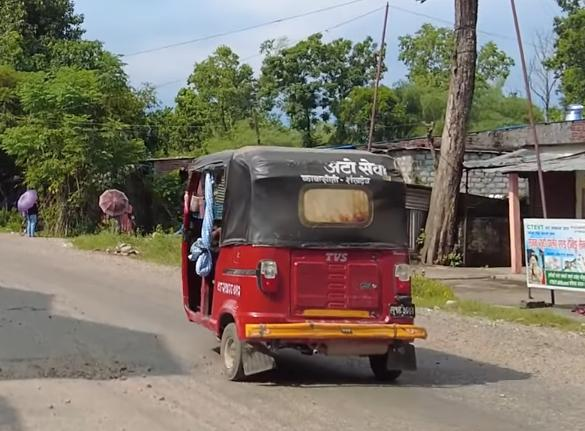auto_rickshaw: (173, 141, 438, 392)
